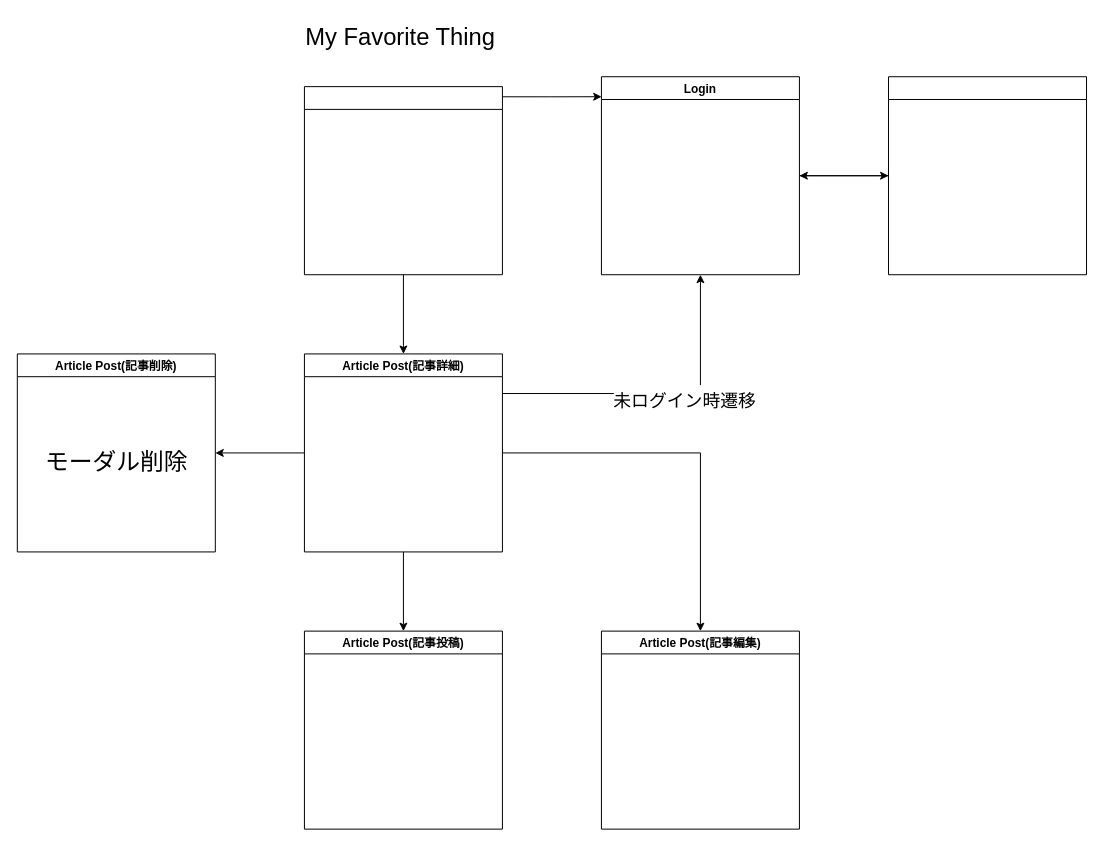
Some shapes in this 1104 by 846 pixel diagram are drawn without their labels. The centre of each missing label's shape, as x and y in pixels:
"HomePage(一覧)" goes at pixel 402 180.
"register" goes at pixel 987 175.
